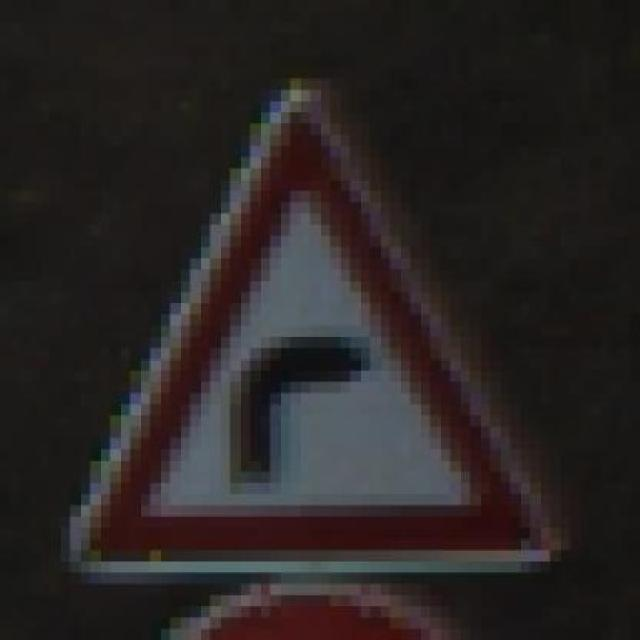Dangerous Rright Curve Ahead: (59, 79, 550, 596)
